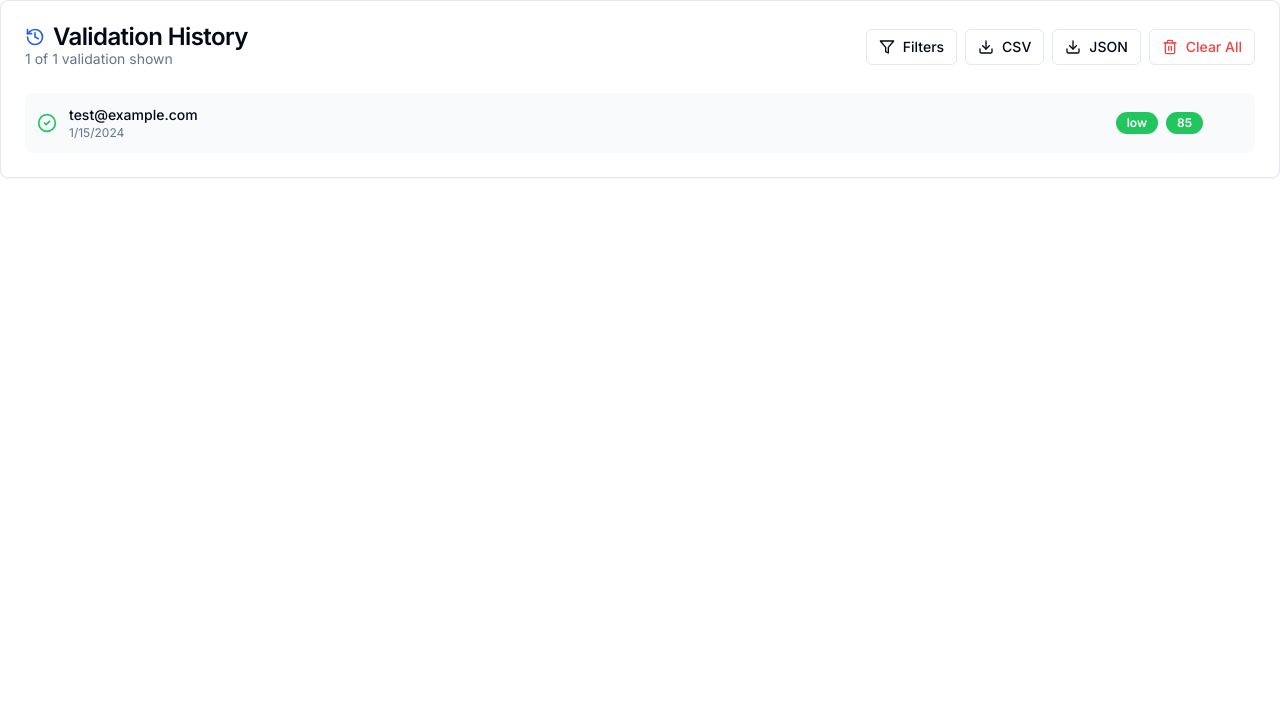
Scenario: ValidationHistory › search and filter › shows no results message when filters match nothing
# Open filters
Click the button "Filters". click: {"x": 911, "y": 47}
box: [866,29,957,65]
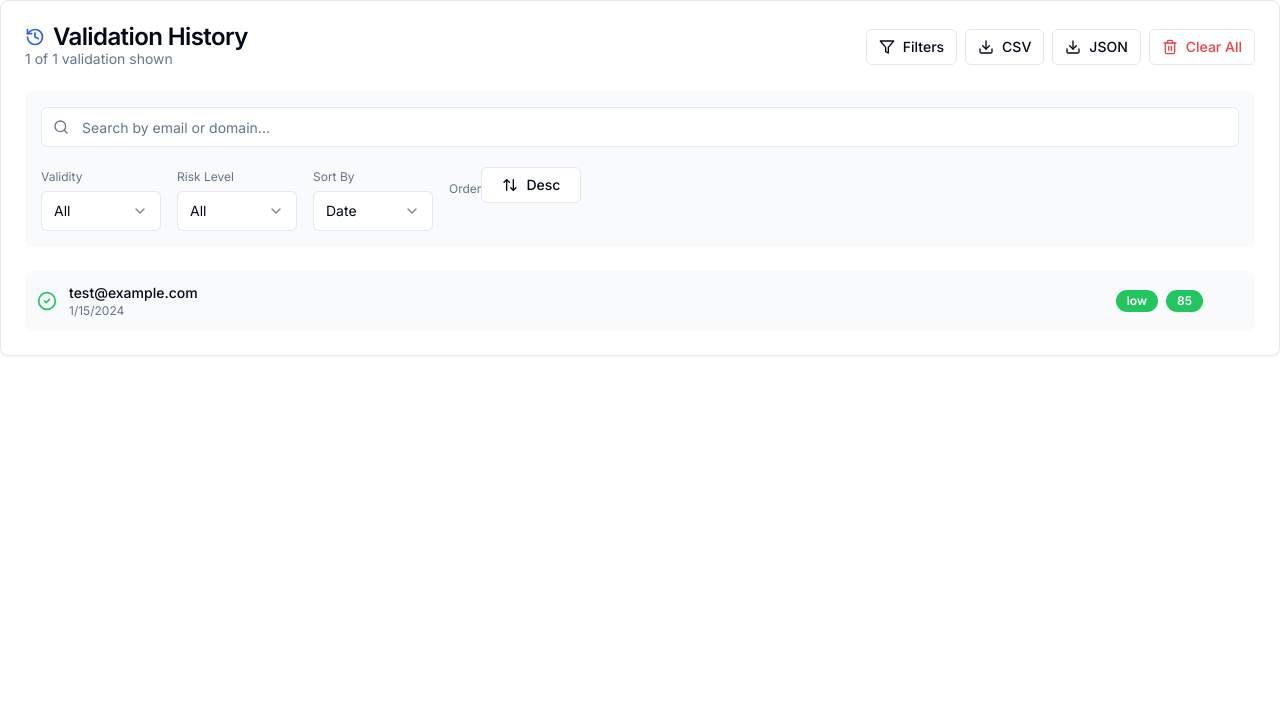
# Type search that won't match
Type "nonexistent" into the field with placeholder "Search by email or domain...". click: {"x": 640, "y": 127}
box: [41,107,1239,147]
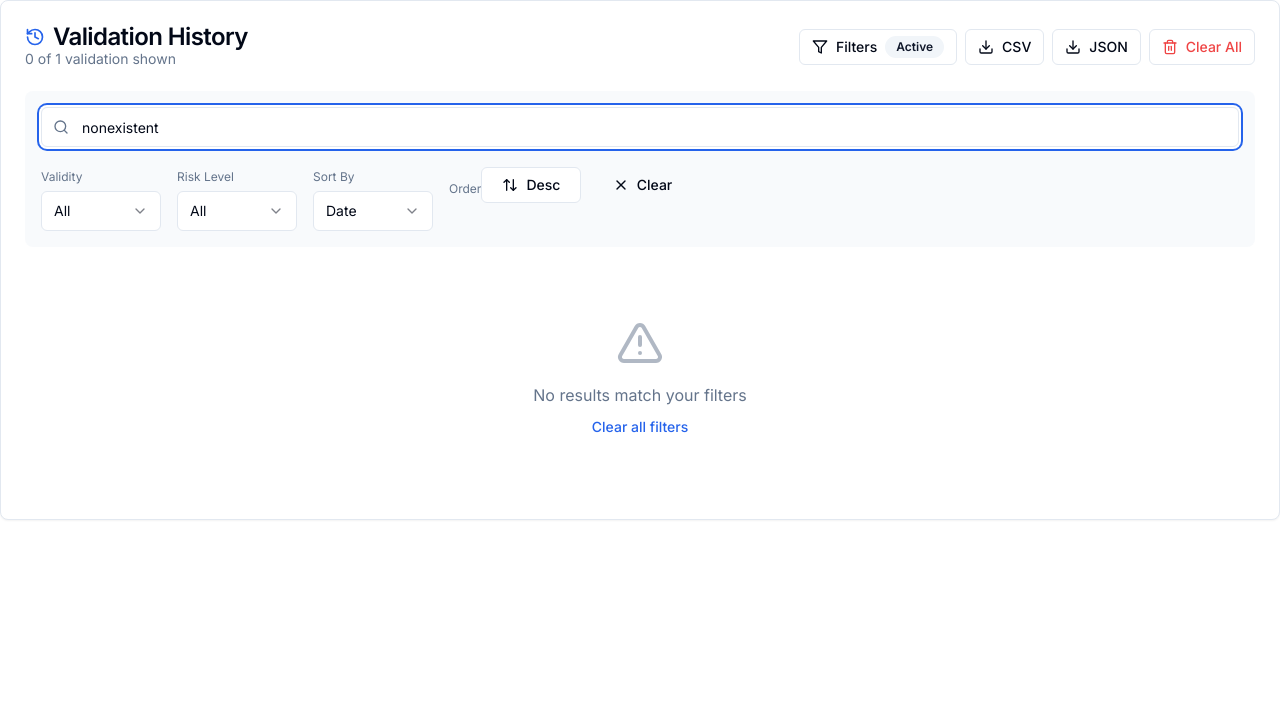
expect the text "No results match your filters" is shown: met, box [533,383,747,407]
